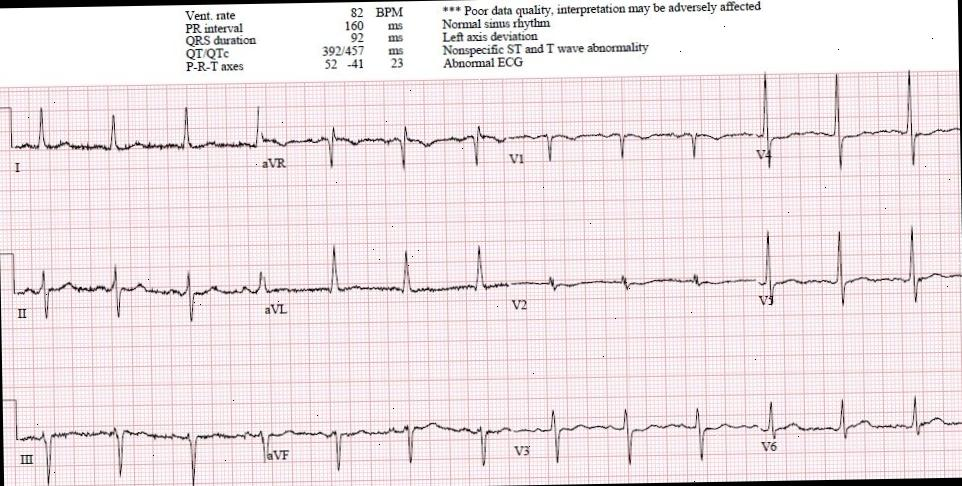Lead_I: (9, 98, 264, 192)
Lead_II: (13, 250, 264, 336)
Lead_III: (15, 398, 262, 486)
Lead_V1: (504, 104, 751, 184)
Lead_V2: (506, 246, 758, 319)
Lead_V3: (509, 386, 760, 477)
Lead_V4: (752, 66, 960, 180)
Lead_V5: (754, 218, 962, 314)
Lead_V6: (755, 379, 962, 470)
Lead_aVF: (259, 390, 514, 480)
Lead_aVL: (262, 226, 509, 336)
Lead_aVR: (258, 96, 508, 192)
